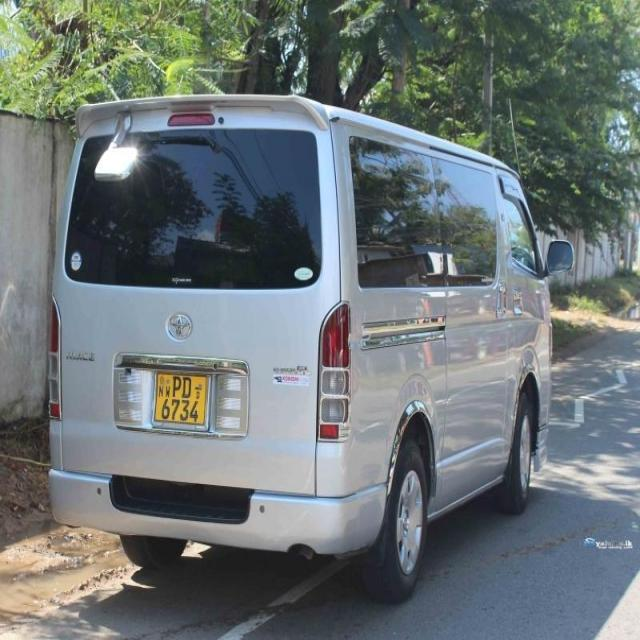license-plate: (156, 372, 204, 422)
